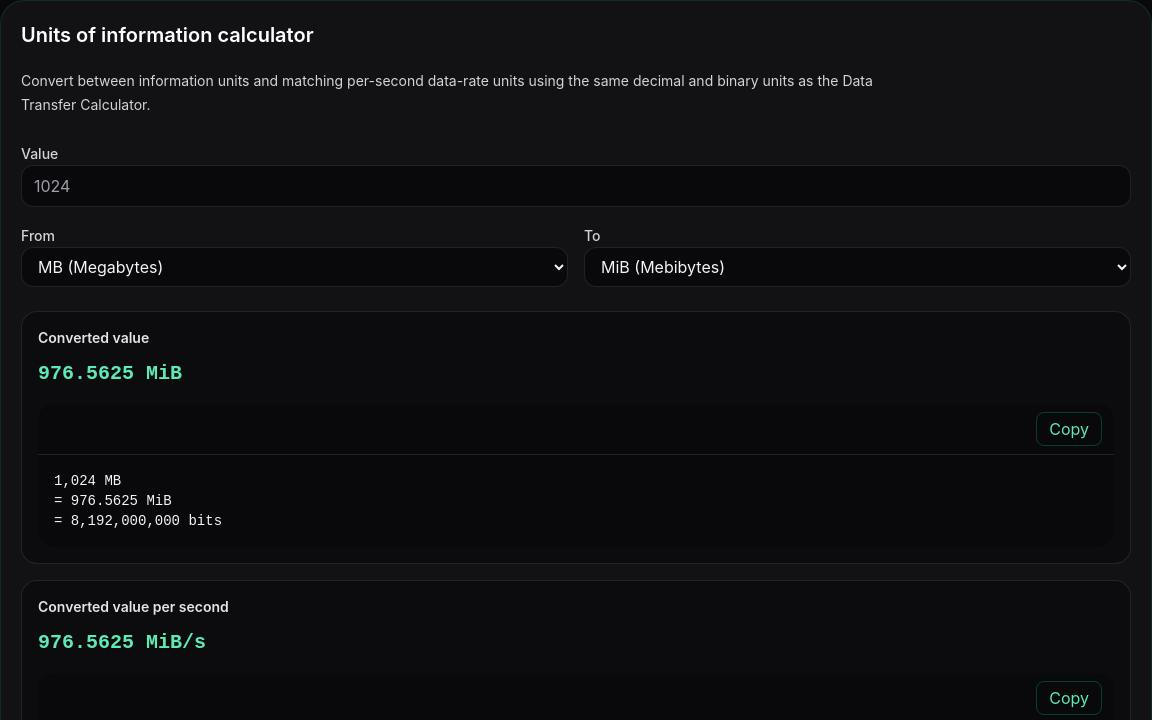
Scenario: Information Units arithmetic regression › converts eight bits to one byte
Type "8" into the field at (576, 186), box [21,165,1131,207]
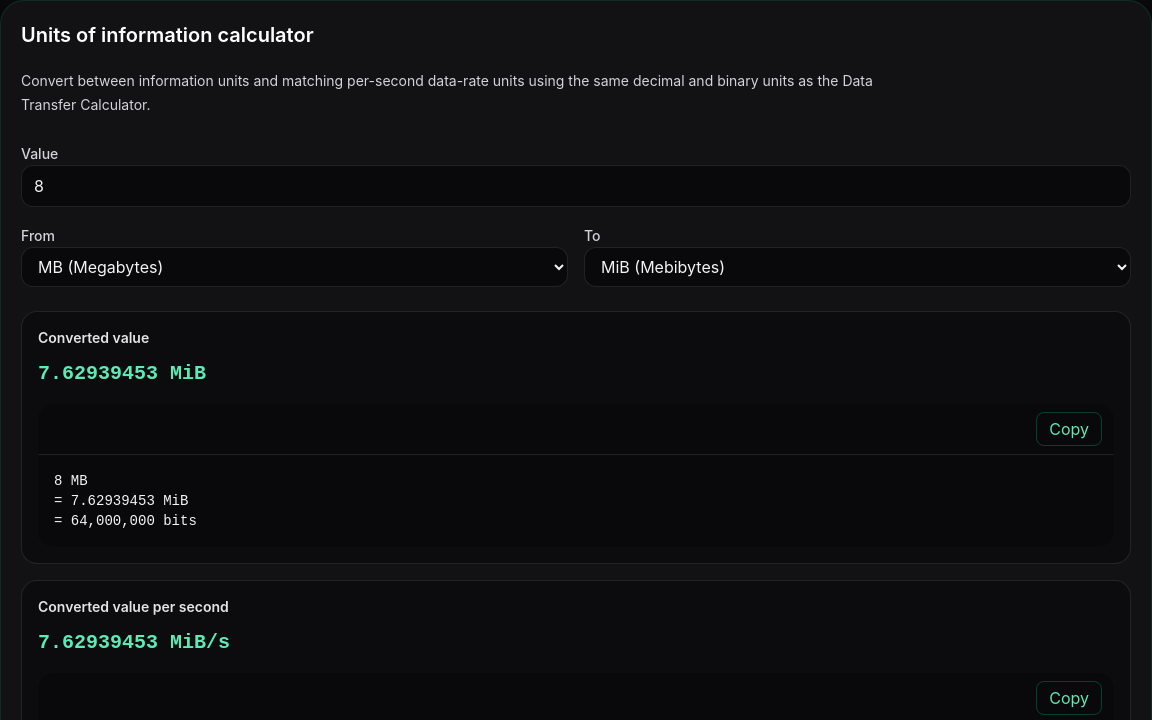
Select "b (bits)" in the dropdown labelled "From" at (294, 267), box [21,247,568,287]
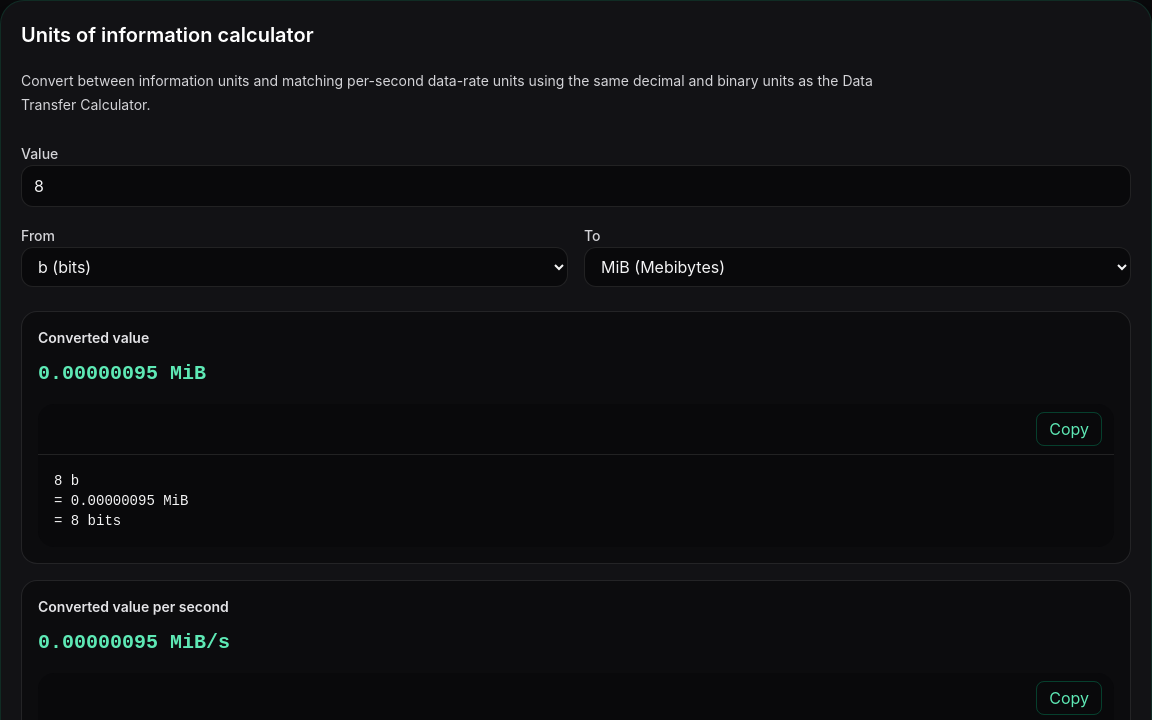
Select "B (Bytes)" in the dropdown labelled "To" at (858, 267), box [584,247,1131,287]
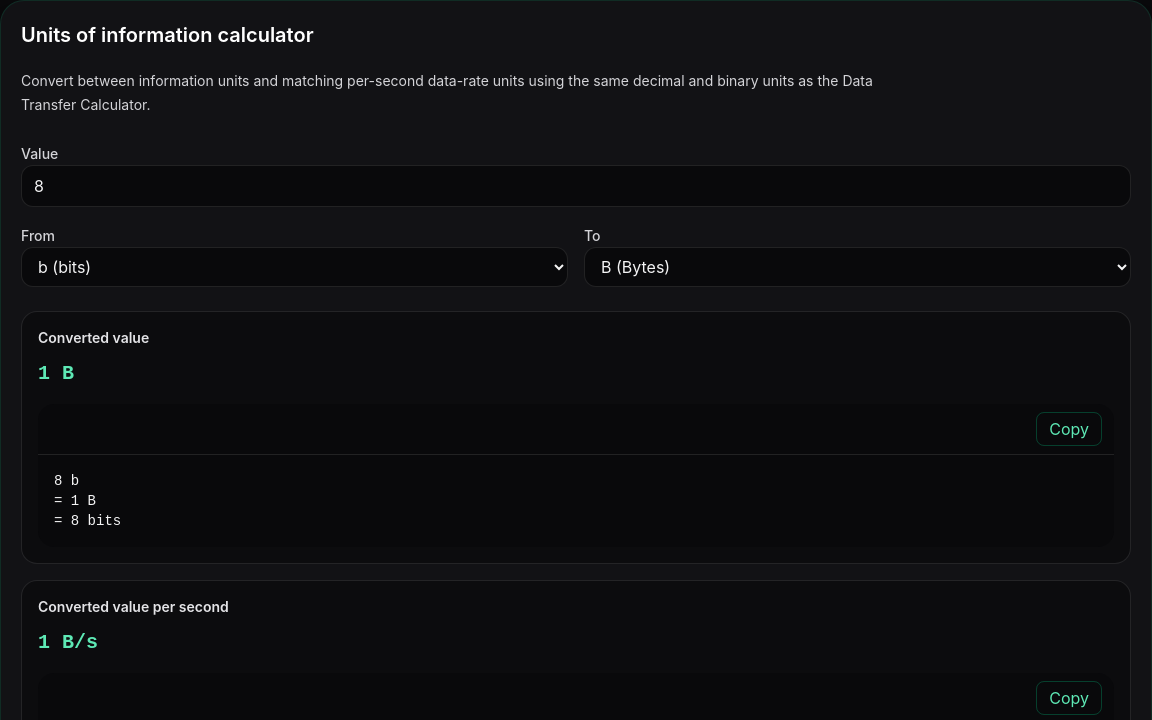
Expected: the text "1 B" is shown, [38,362,74,385]
Expected: the text "1 B/s" is shown, [38,631,98,654]
